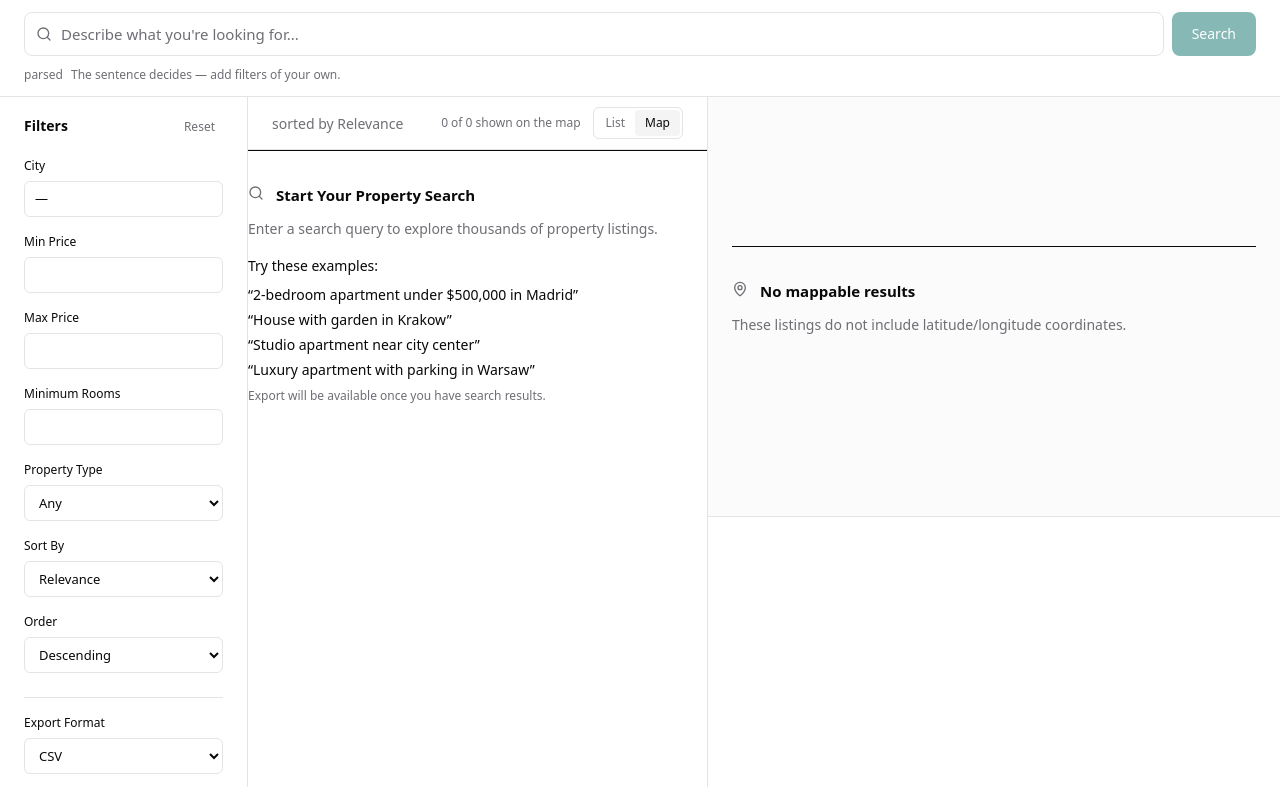
Scenario: SearchPage › displays no results message
Type "Nowhere" into the field named "Search query" at (594, 34), box [24, 12, 1164, 56]
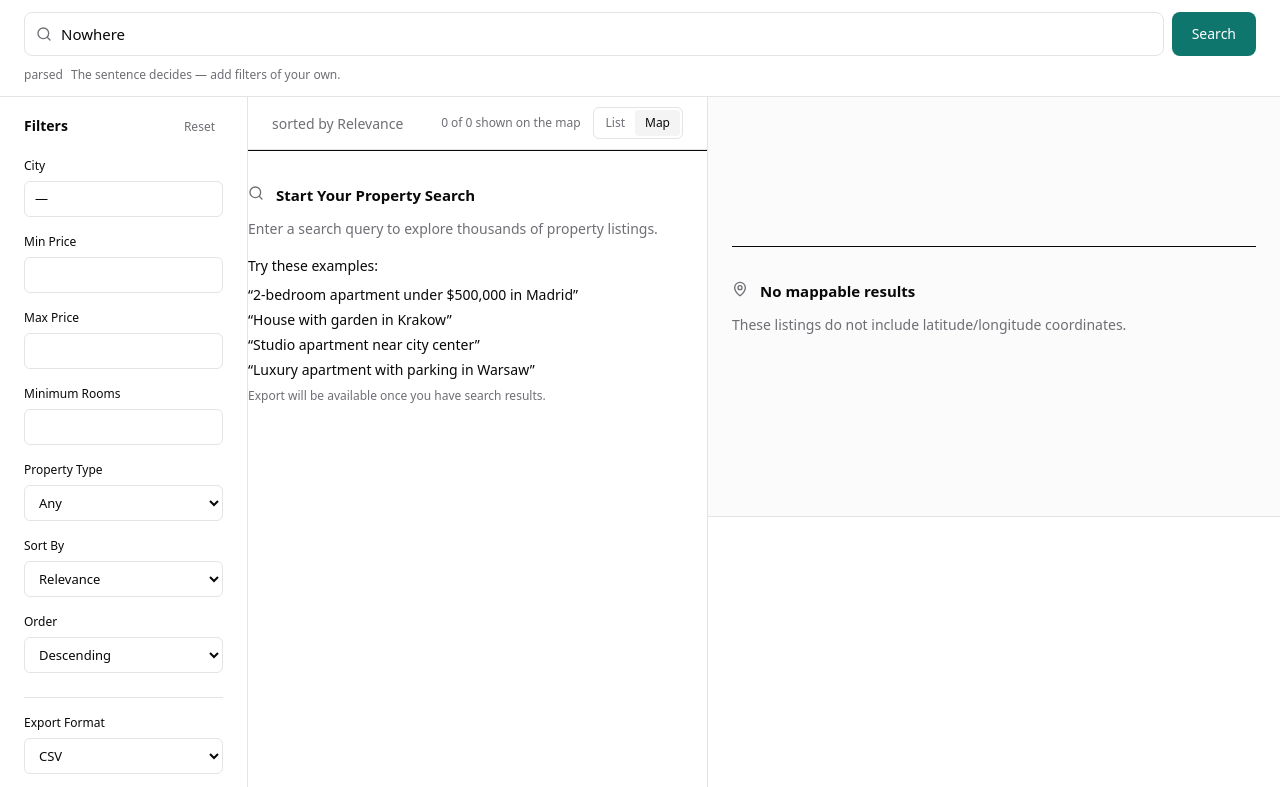
Click the button "Search" at (1214, 34), box [1172, 12, 1256, 56]
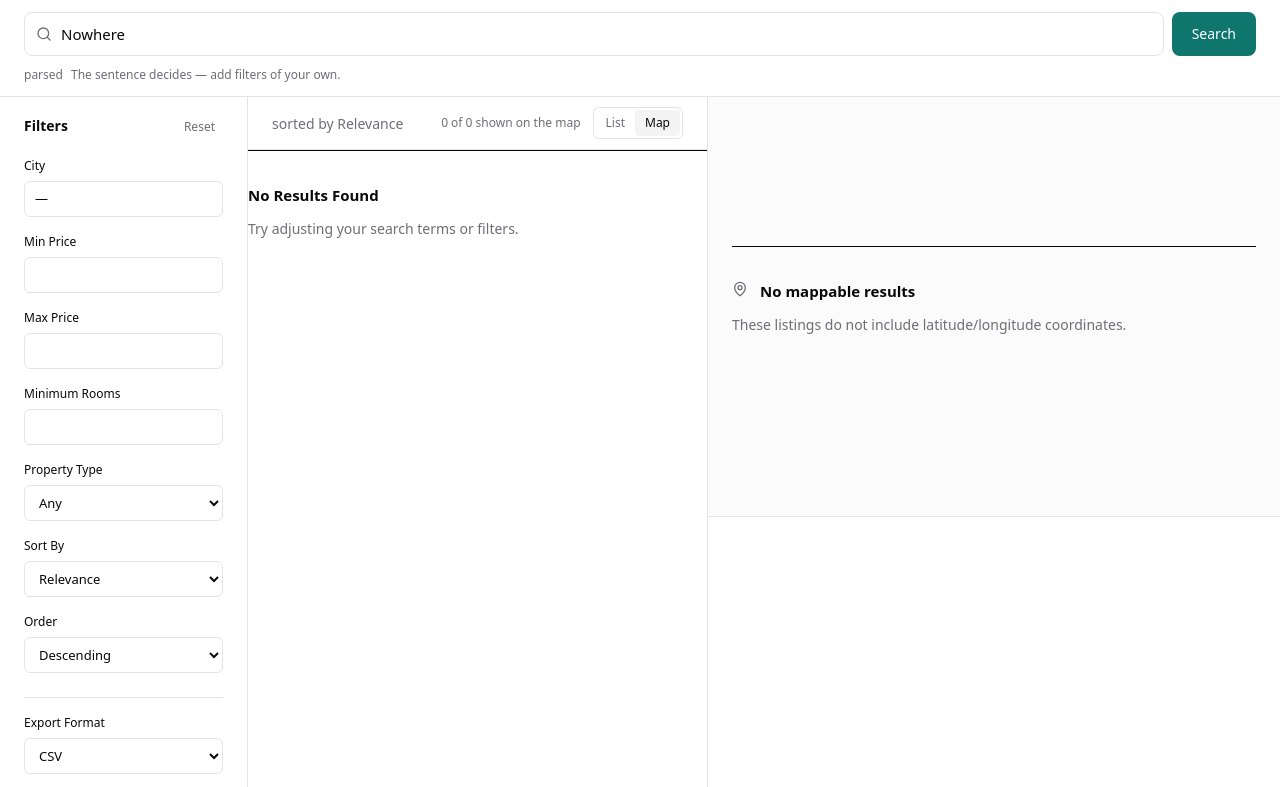
Now the text "No Results Found" is shown, box [248, 183, 379, 207]
